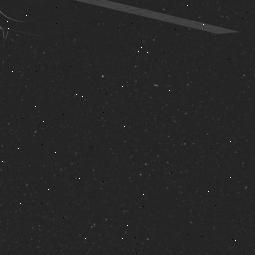xmm_newton: (0, 0, 221, 52)
